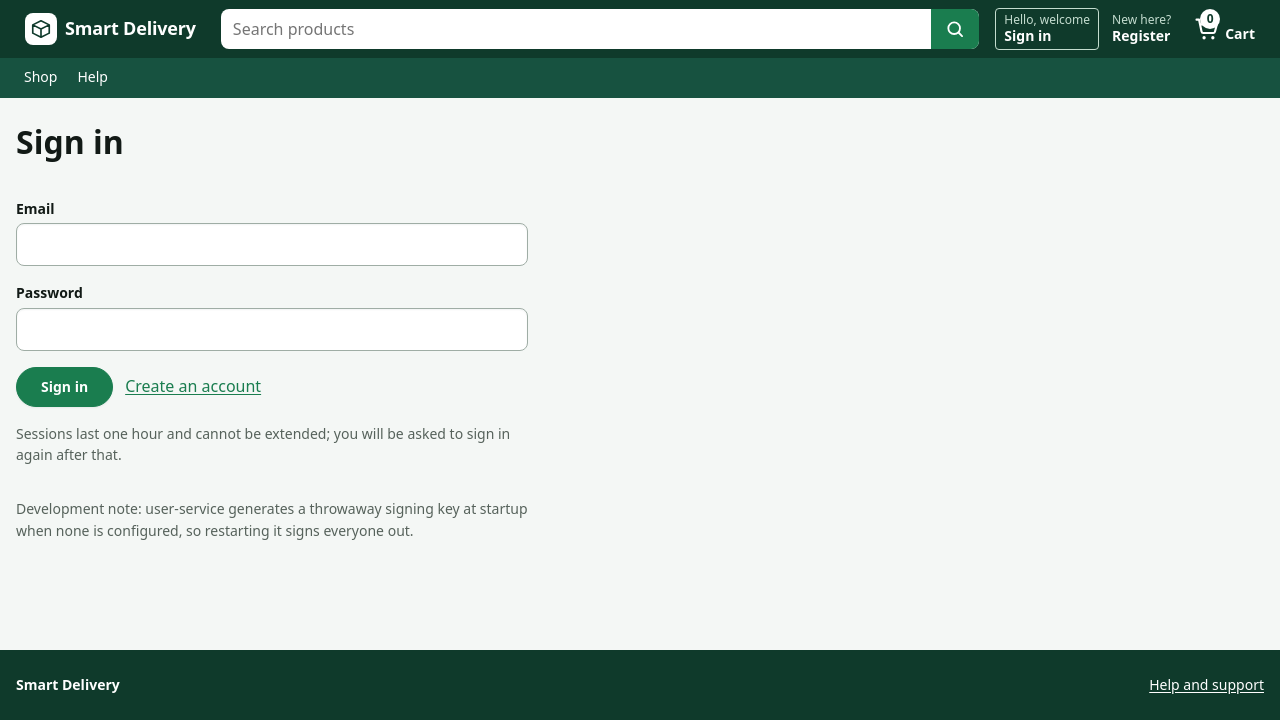
login › does not say which half of the credential was wrong
The image size is (1280, 720).
Type "a@example.test" into the field labelled "Email". click: (272, 245)
box: [16,223,528,266]
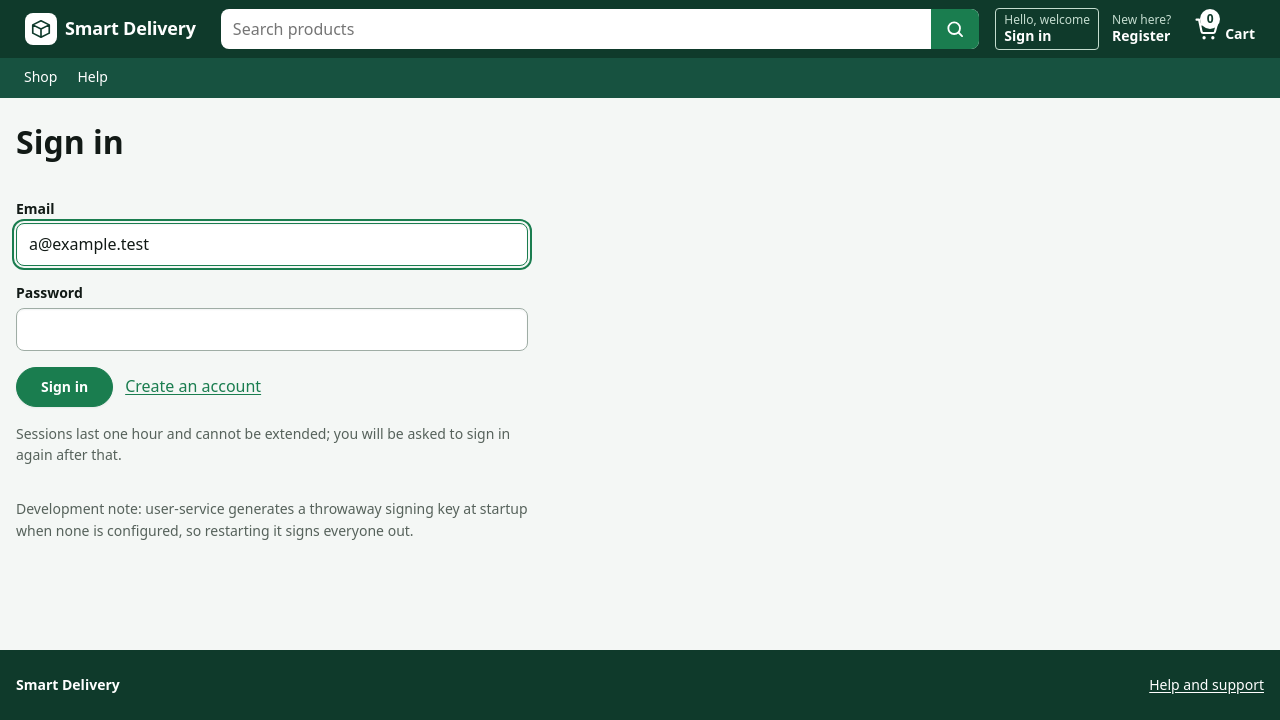
Type "password123" into the password field labelled "Password". click: (272, 329)
box: [16,308,528,351]
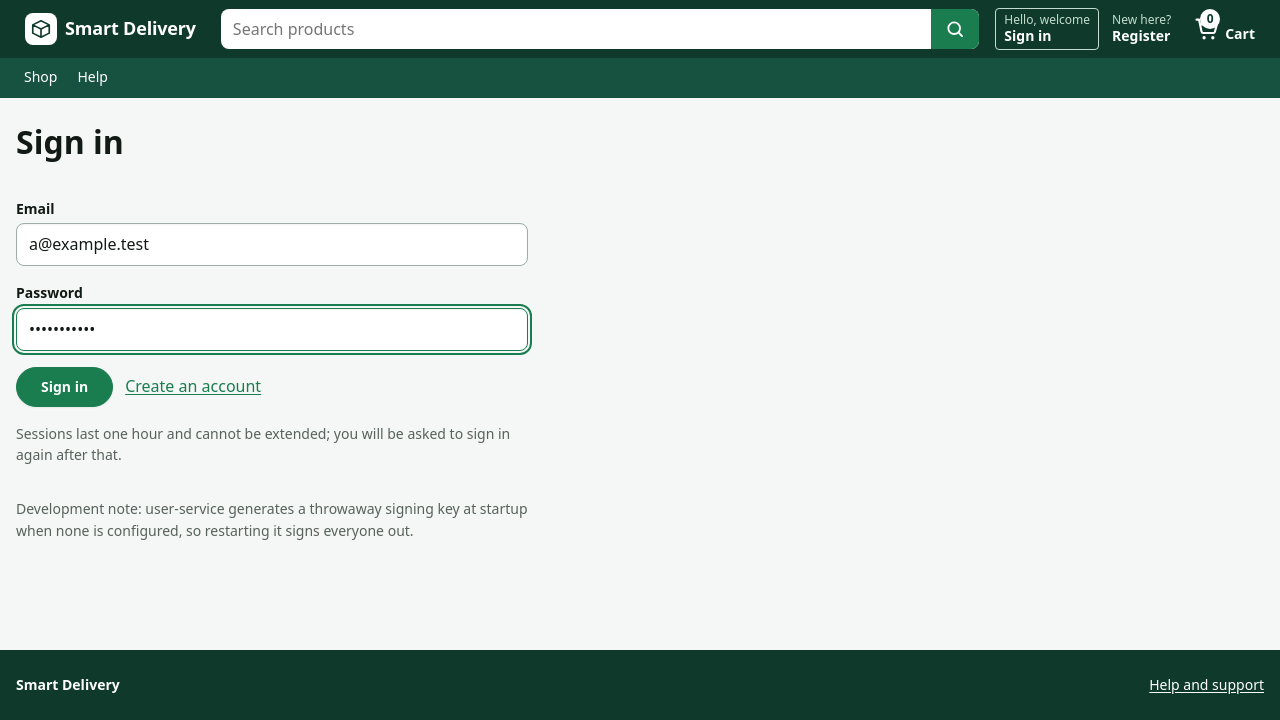
Click the button "Sign in". click: (65, 387)
box: [16,367,113,407]
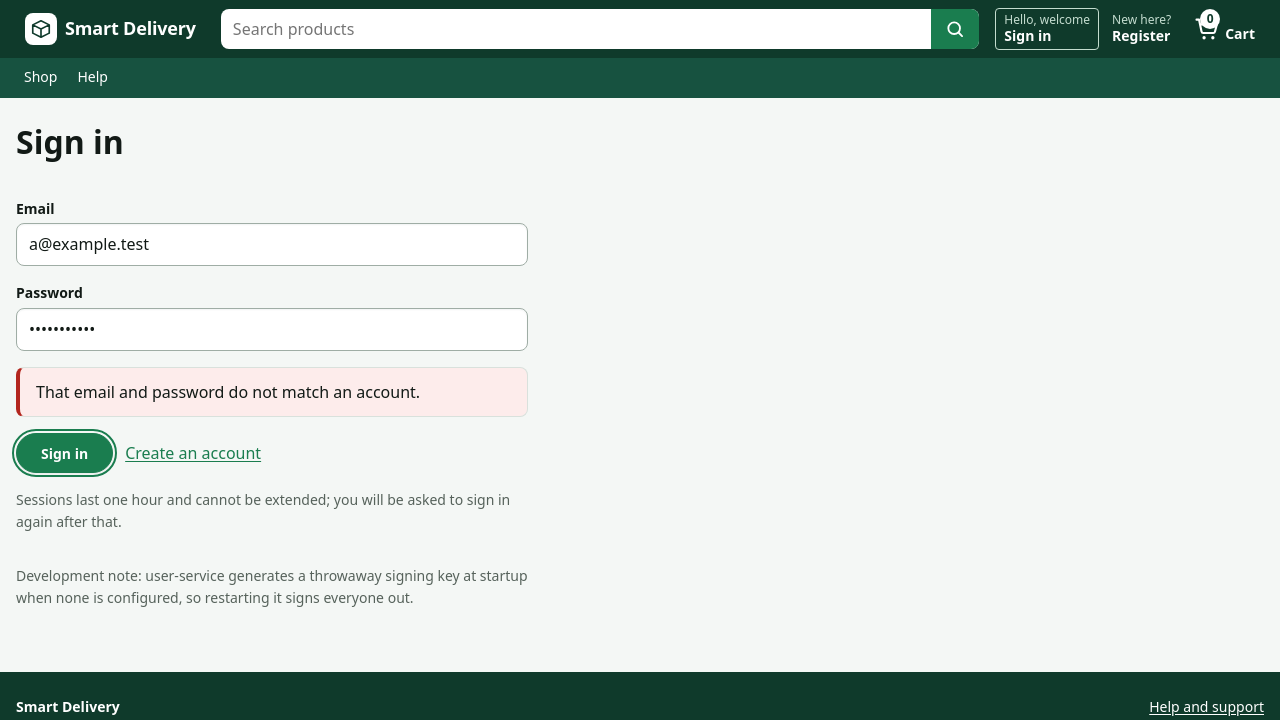
Expected: the text "That email and password do not match an account." is shown, [16,367,528,418]
